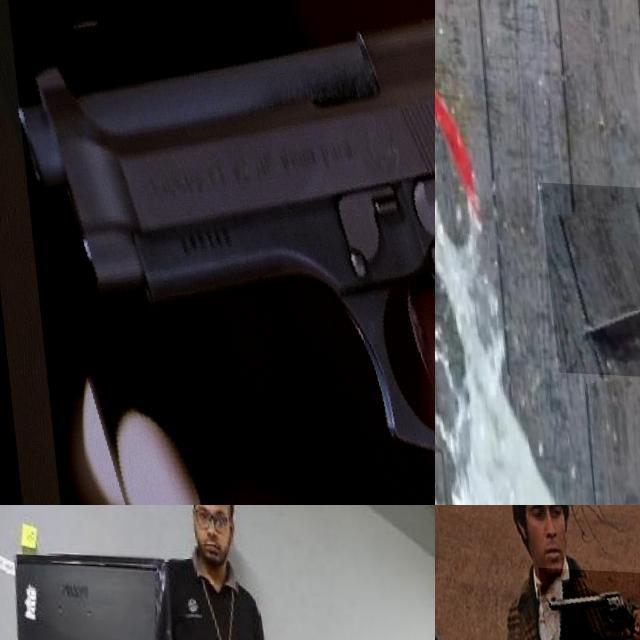-: (534, 179, 640, 379)
gun-knife-thesis - v11 Yolov5 augmented: (2, 0, 435, 505), (534, 565, 640, 640)
